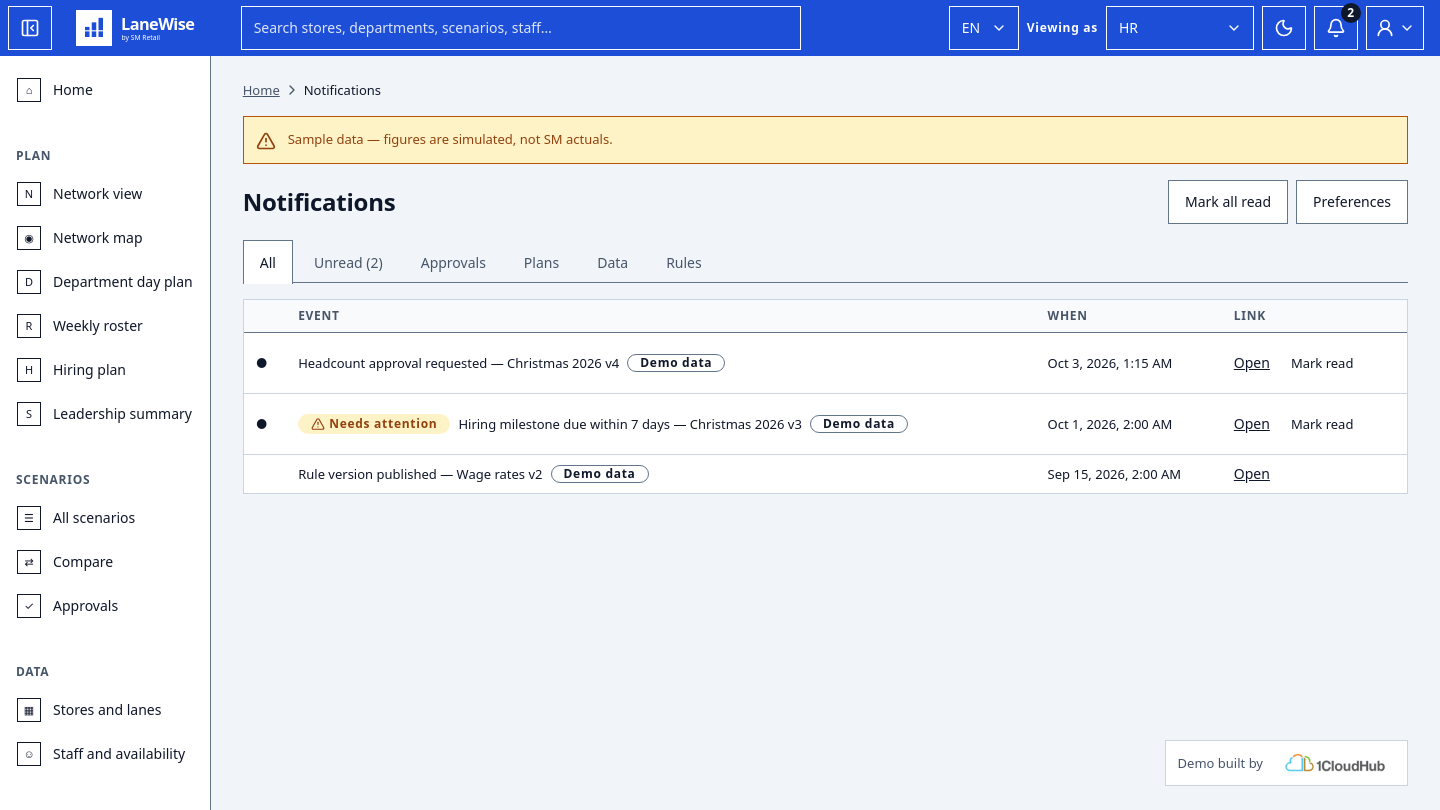
it: SCR-040 Notifications › Mark all read clears the unread count on the page and the bell
Expected: the table named "Notifications" is shown, [244,300,1407,493]
Click the button "Mark all read". click: (1228, 202)
box: [1168,180,1288,224]
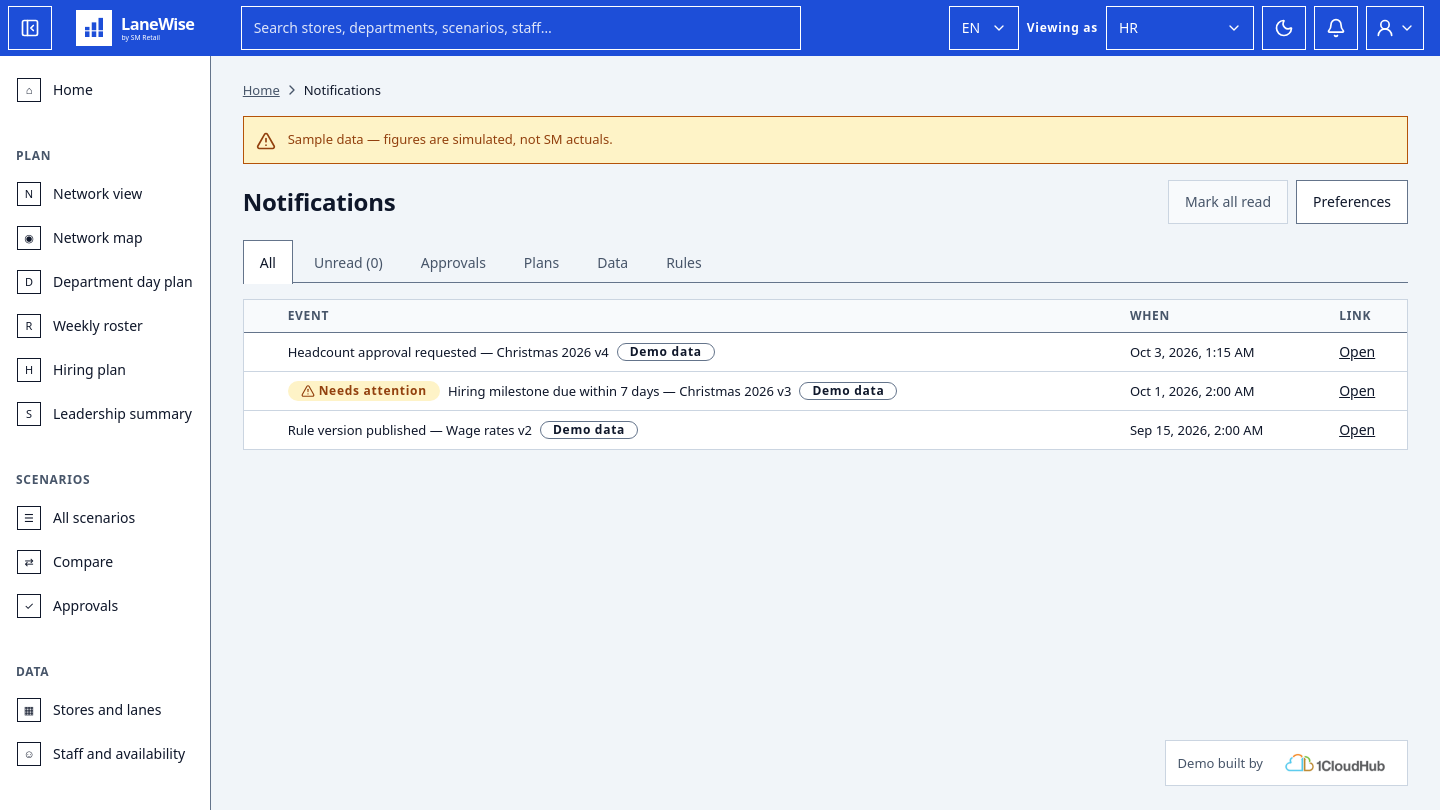
Now the tab "Unread (0)" is shown, box [297,240,400,284]
Now the button "Mark all read" is disabled, box [1168,180,1288,224]
